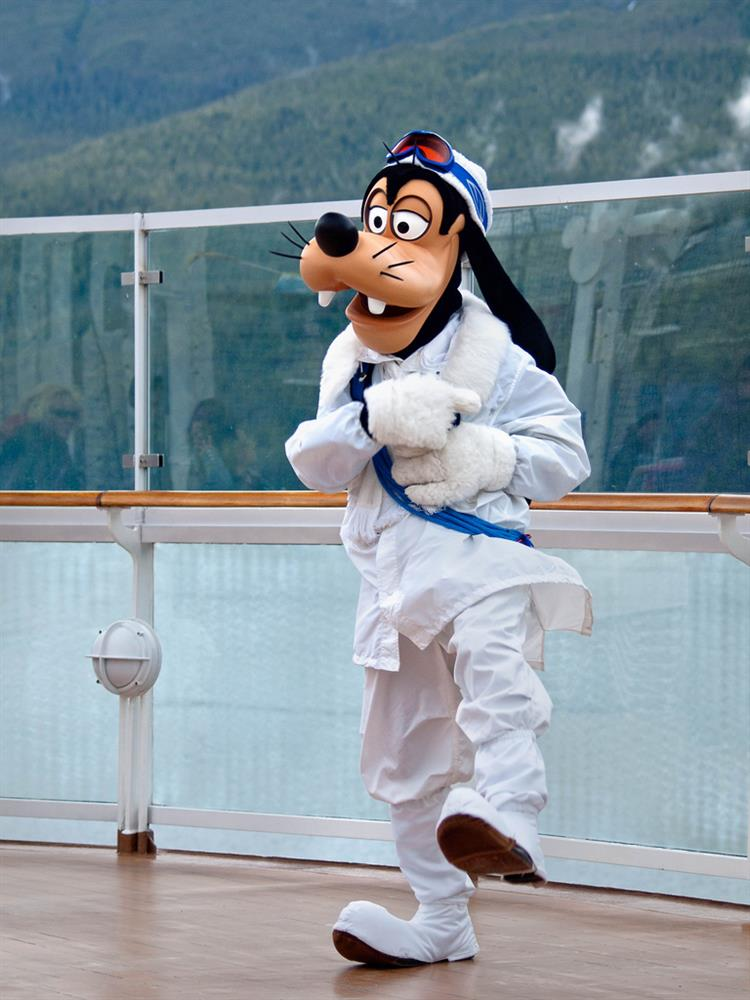Goofy: (289, 143, 498, 371)
